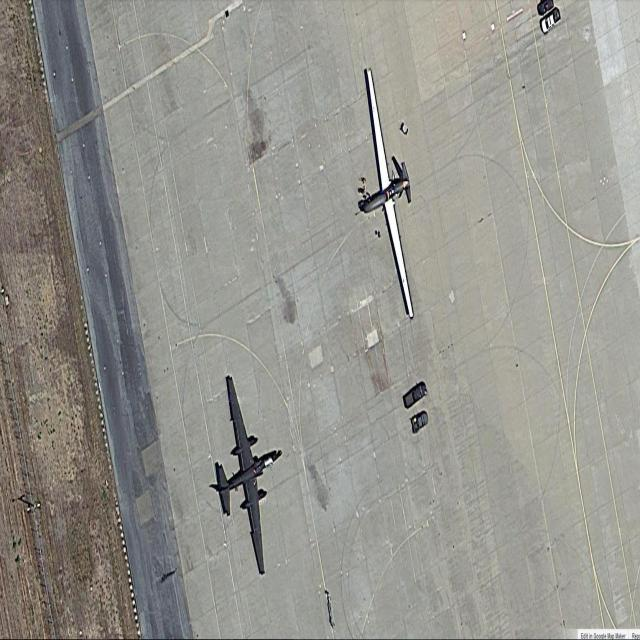MIL_Plane: (216, 375, 282, 574), (364, 69, 414, 319)
